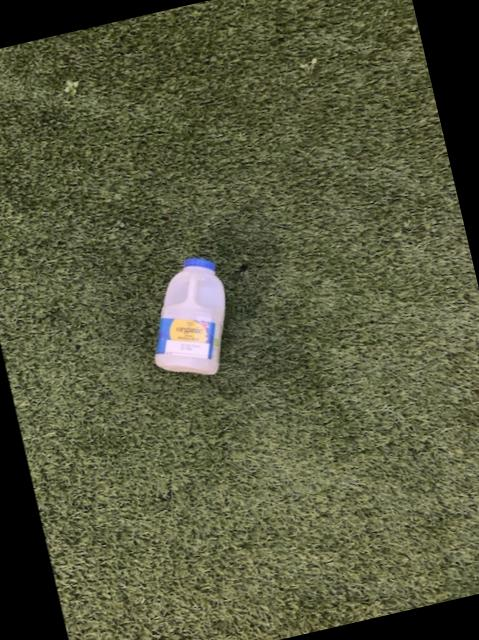plastic: (152, 256, 222, 372)
